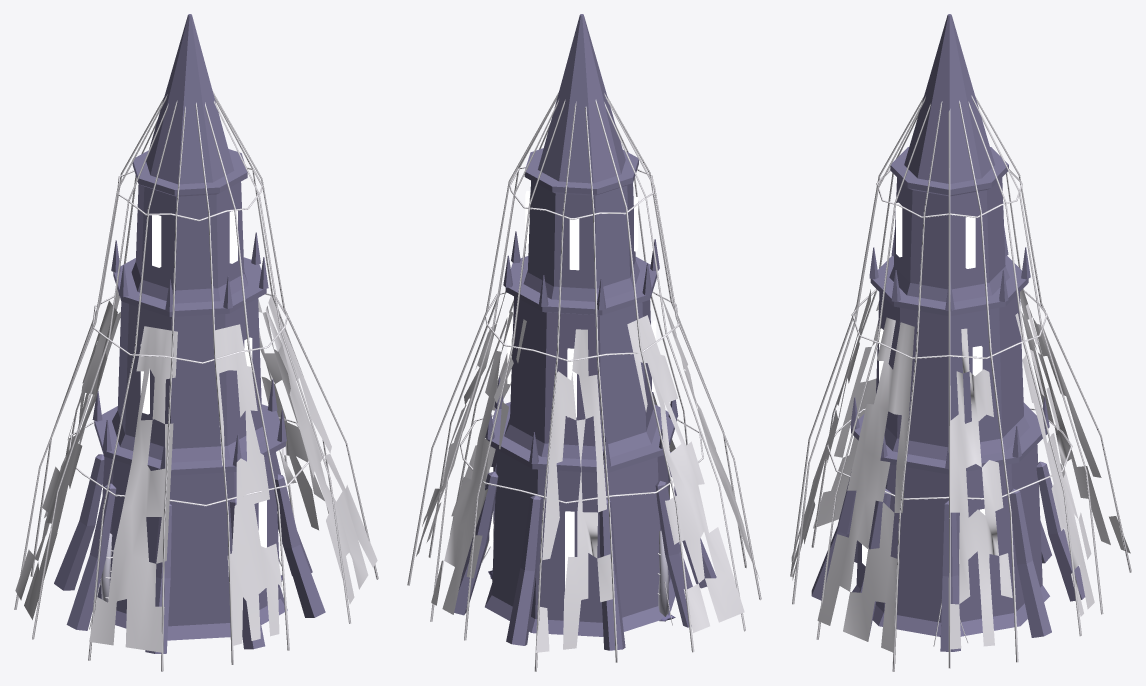
Rendered from FungalF10NestKit.fbx.
3 renders of one model, left to right at view 1: azimuth 30°, elevation 25°; view 2: azimuth 150°, elevation 25°; view 3: azimuth 270°, elevation 25°, orthographic.
Visible parts, largest first — view 1: ShroudSpire__TRIM, ShroudSpire__SILK, ShroudSpire__GLOW; view 2: ShroudSpire__TRIM, ShroudSpire__SILK, ShroudSpire__GLOW, SilkDrape__STEM; view 3: ShroudSpire__TRIM, ShroudSpire__SILK, ShroudSpire__GLOW.
Part boxes in pixels (x1,y1,x2,y2): ShroudSpire__TRIM: [54, 14, 325, 653]; ShroudSpire__SILK: [14, 91, 378, 671]; ShroudSpire__GLOW: [140, 210, 266, 547]; ShroudSpire__TRIM: [454, 14, 716, 650]; ShroudSpire__SILK: [407, 92, 761, 671]; ShroudSpire__GLOW: [489, 190, 674, 587]; SilkDrape__STEM: [493, 520, 668, 621]; ShroudSpire__TRIM: [811, 14, 1085, 651]; ShroudSpire__SILK: [790, 95, 1131, 671]; ShroudSpire__GLOW: [862, 188, 1003, 585].
Size of the model in its own units: 35.78 by 62.36 by 33.03.
